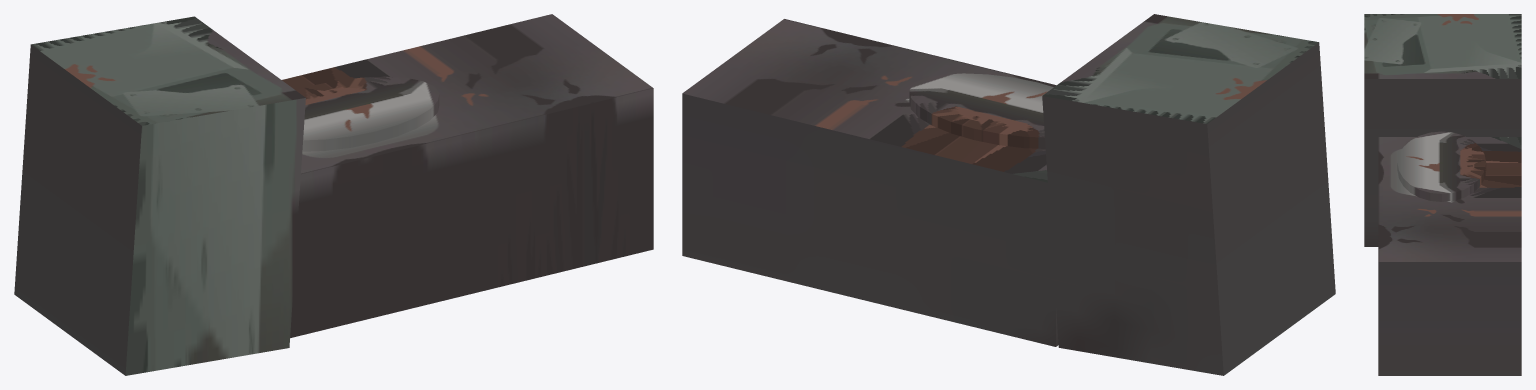
The model's file is Building_AncientTableSmithingFueled.glb.
3 renders of one model, left to right at view 1: azimuth 30°, elevation 25°; view 2: azimuth 150°, elevation 25°; view 3: azimuth 270°, elevation 25°, orthographic. The views are drawn at different scales.
Parts seen in each view (by area): view 1: AncientTableSmithingFueled; view 2: AncientTableSmithingFueled; view 3: AncientTableSmithingFueled.
Part boxes in pixels (x1,y1,x2,y2): AncientTableSmithingFueled: [14, 14, 653, 375]; AncientTableSmithingFueled: [682, 14, 1335, 375]; AncientTableSmithingFueled: [1364, 14, 1521, 375].
Size of the model in its own units: 2.97 by 1.36 by 1.06.
Materials: 1 (1 with a texture image).
